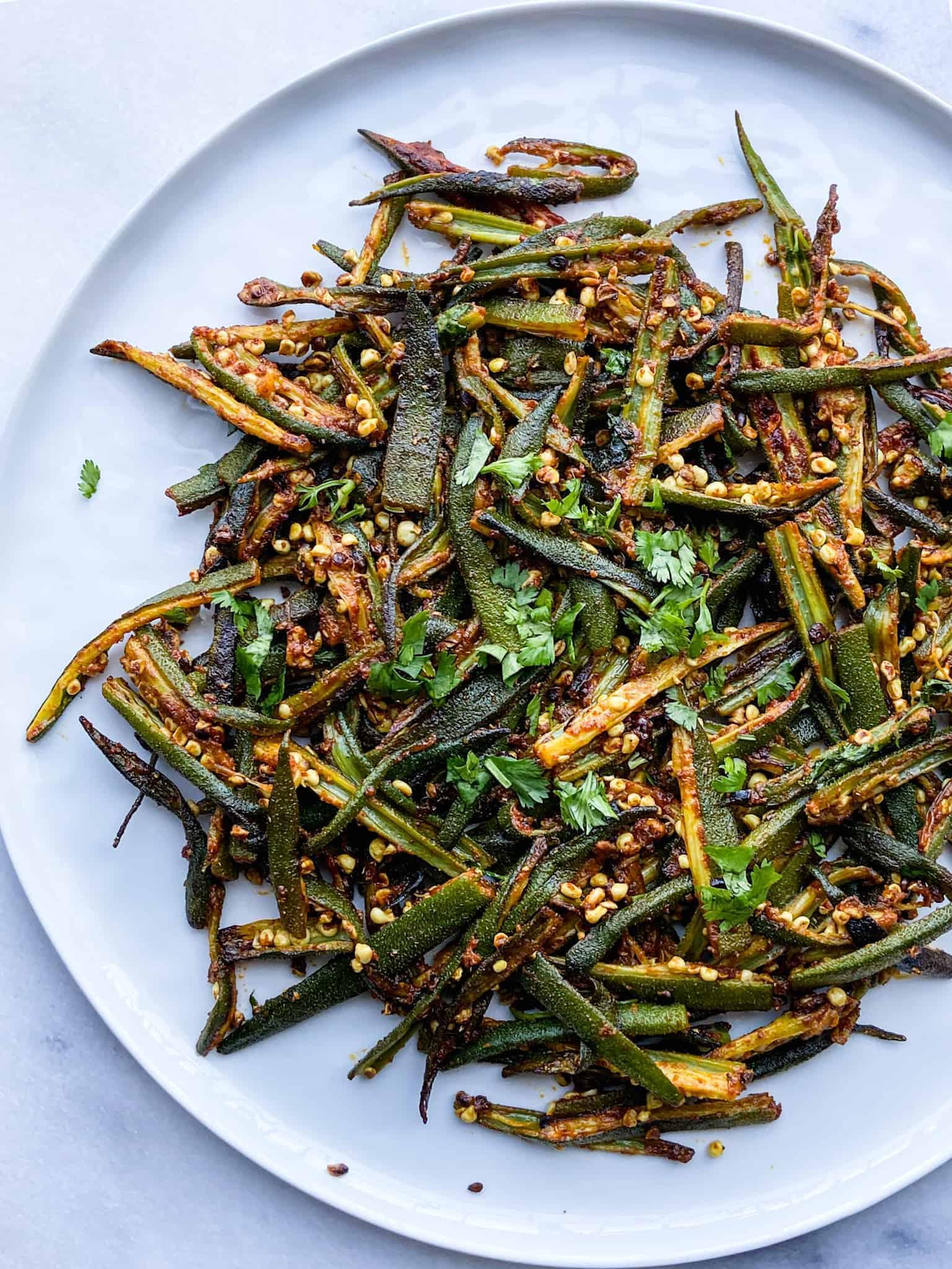bhindi: (159, 202, 952, 1127)
